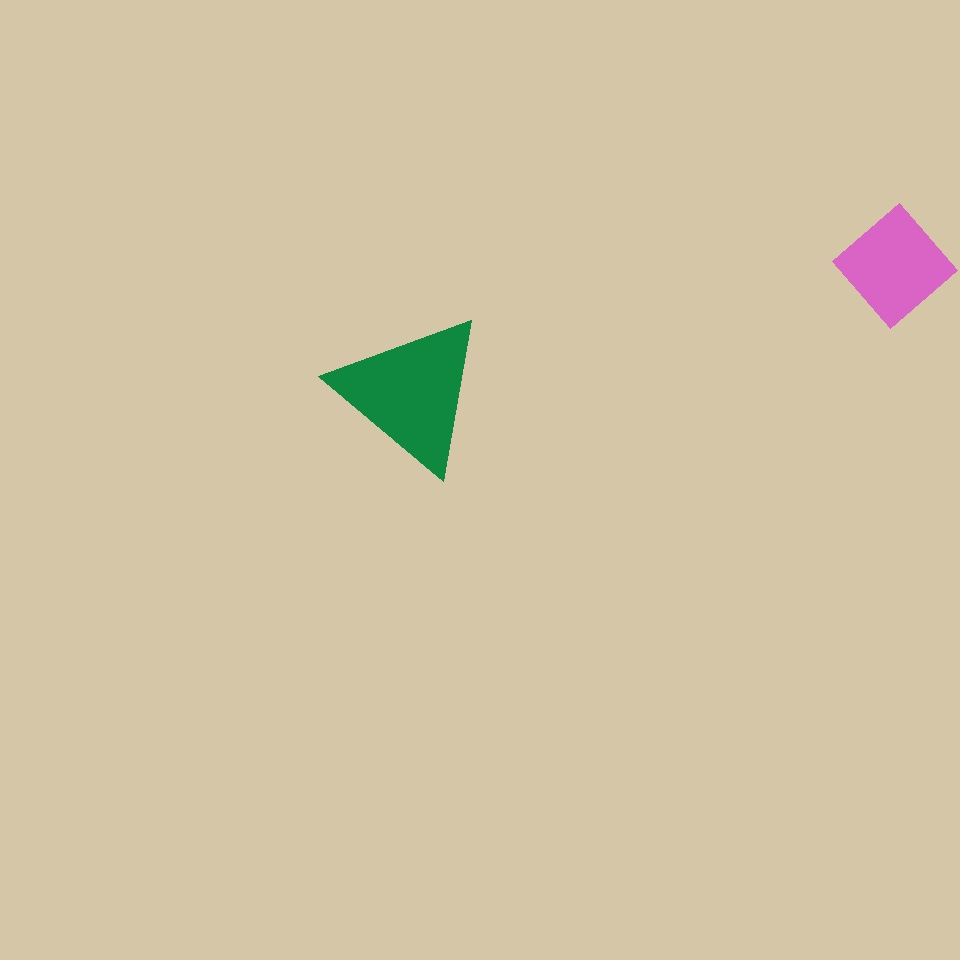circle: (463, 480, 720, 753), (393, 671, 640, 903), (334, 312, 488, 474)
square: (832, 204, 957, 329)
triangle: (26, 281, 347, 602), (658, 99, 875, 316)
